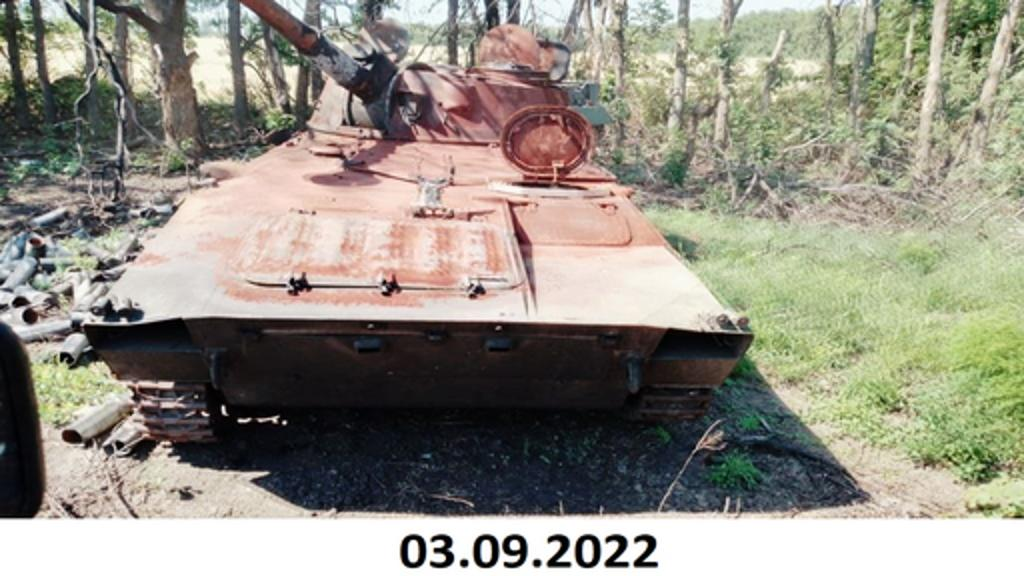ART: (82, 0, 754, 434)
